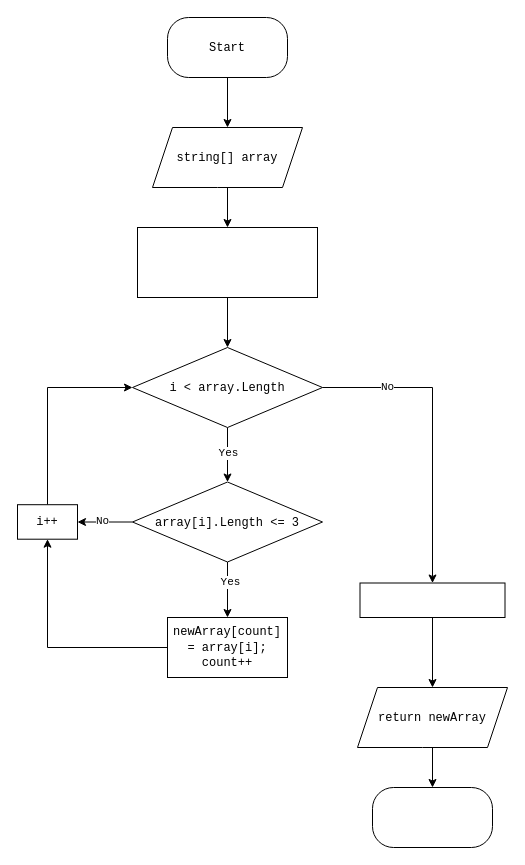
Image size: 525x865. Some labels were removed from this diagram. The shapes that lost their labels are listed below. From the top down, each one's centre as x and y in pixels, then its label:
point 227,262: count = 0 i = 0 string[] newArray = new string[array.Length]
point 432,600: Array.Resize(ref newArray, count)
point 432,817: End
